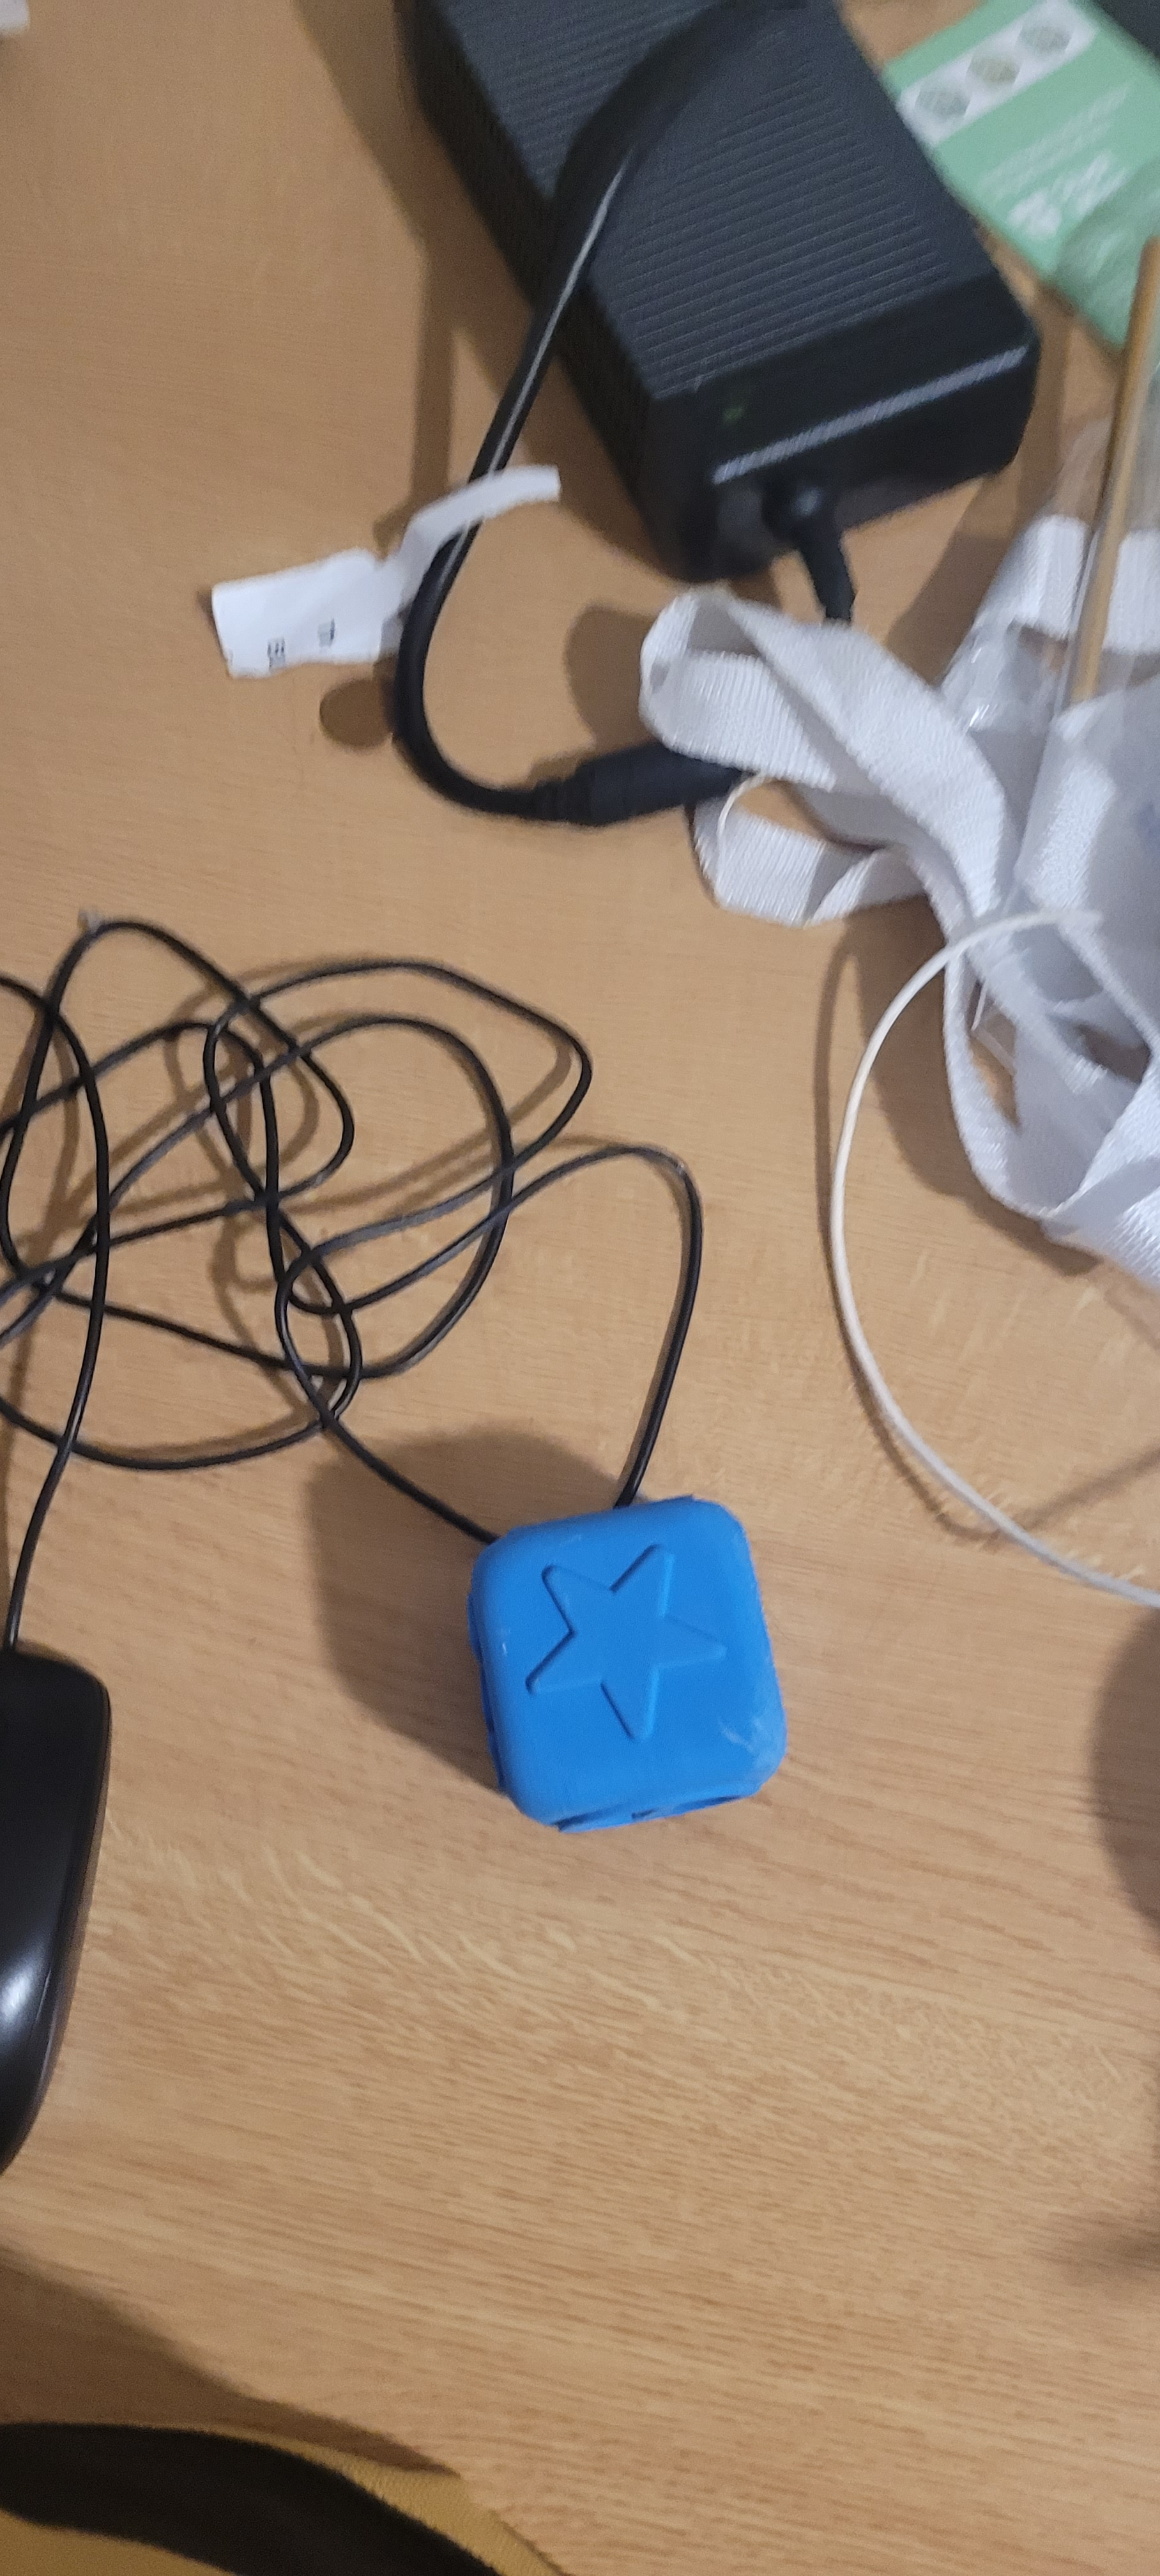Star: (483, 1546, 751, 1748)
